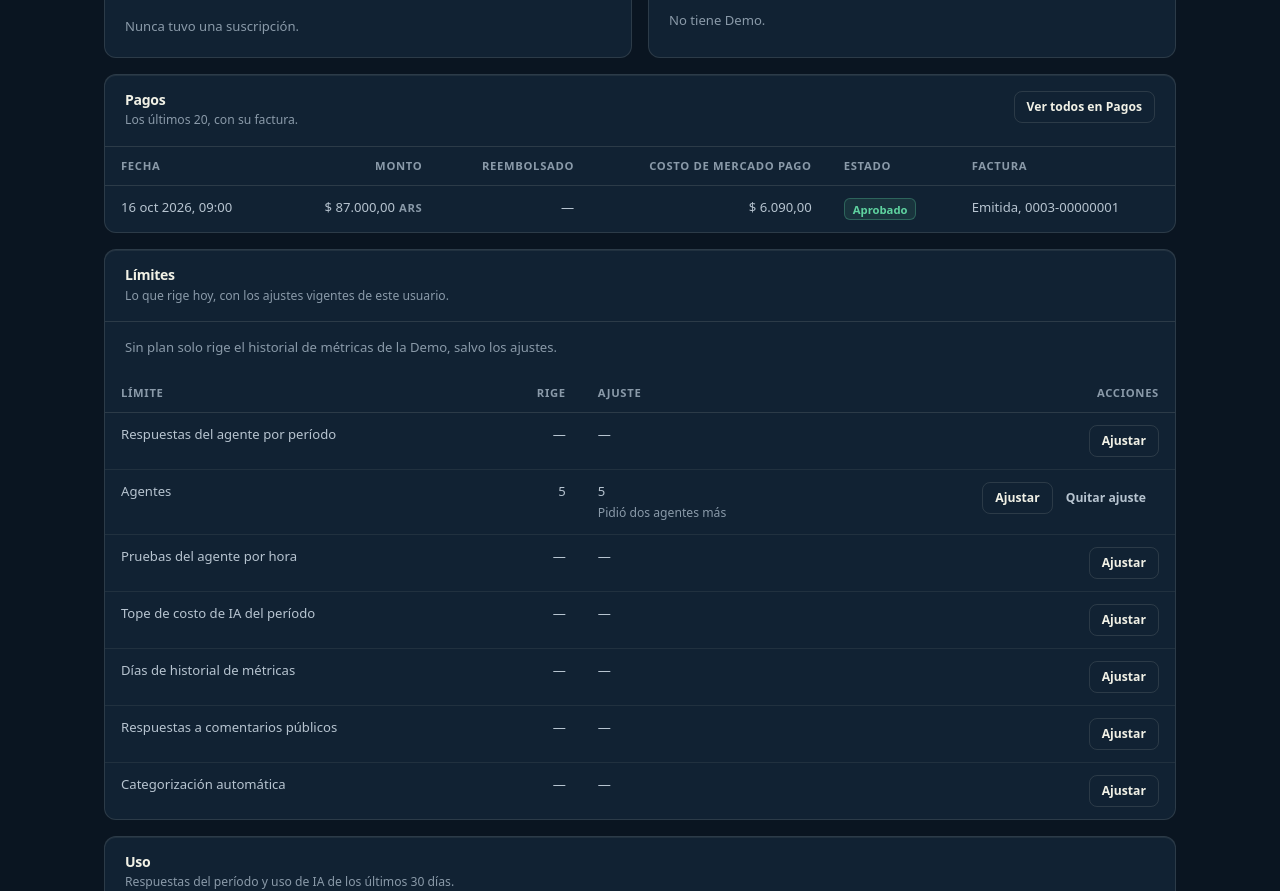
Test: CustomerDetailScreen › shows a dash for the limits of a user without a plan except the ones adjusted
This screenshot has width=1280, height=891.
(page scrolled)
Expected: the 2nd cell "—" is shown, [488,413,582,470]
Expected: the 12th cell "—" is shown, [488,763,582,819]
Click the button with aria-label "Ajustar respuestas del agente por período": coordinates (1124, 441) [1089,425,1159,457]
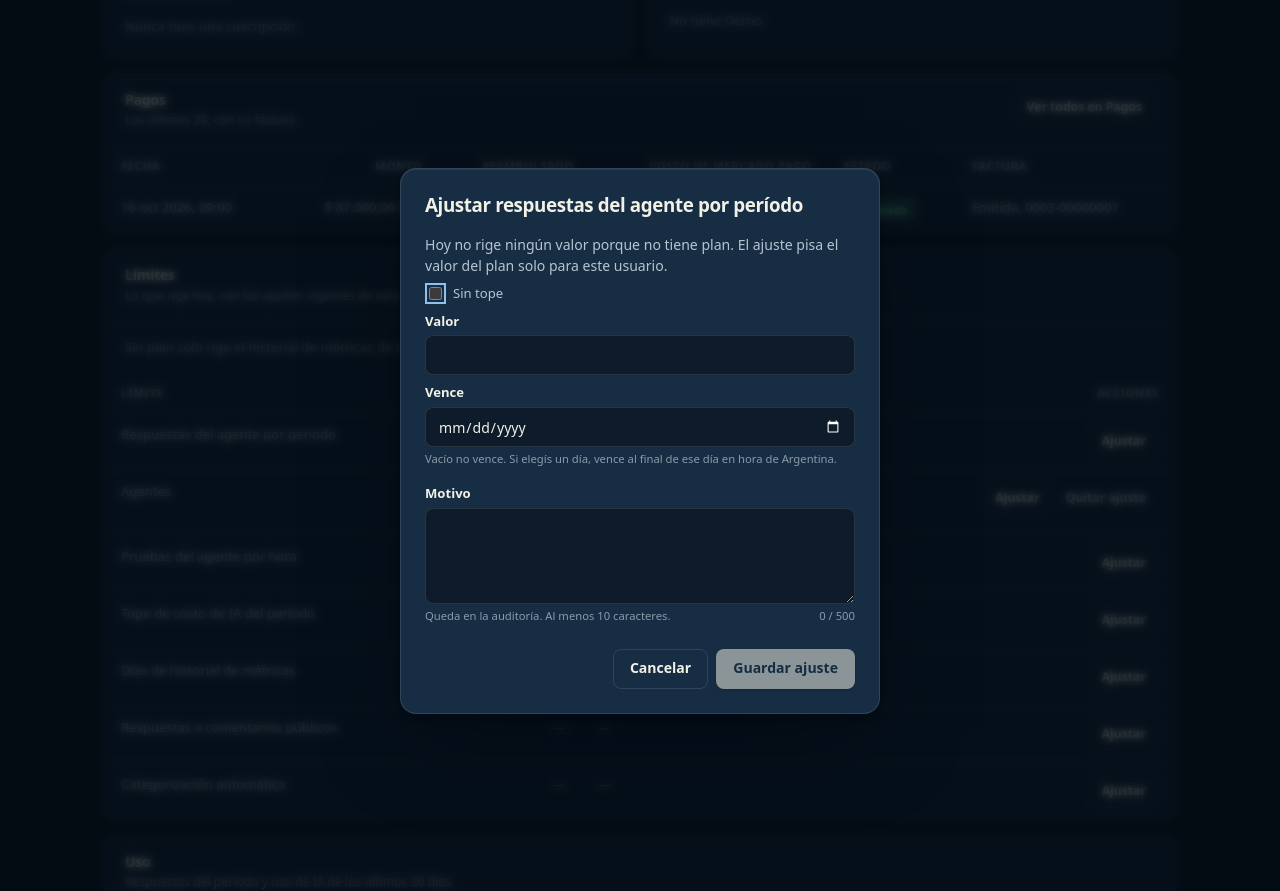
Expected: the text "Hoy no rige ningún valor porque no tiene plan" is shown, [425,235,730,254]
Expected: the number field labelled "Valor" is not empty, [425,335,855,375]
